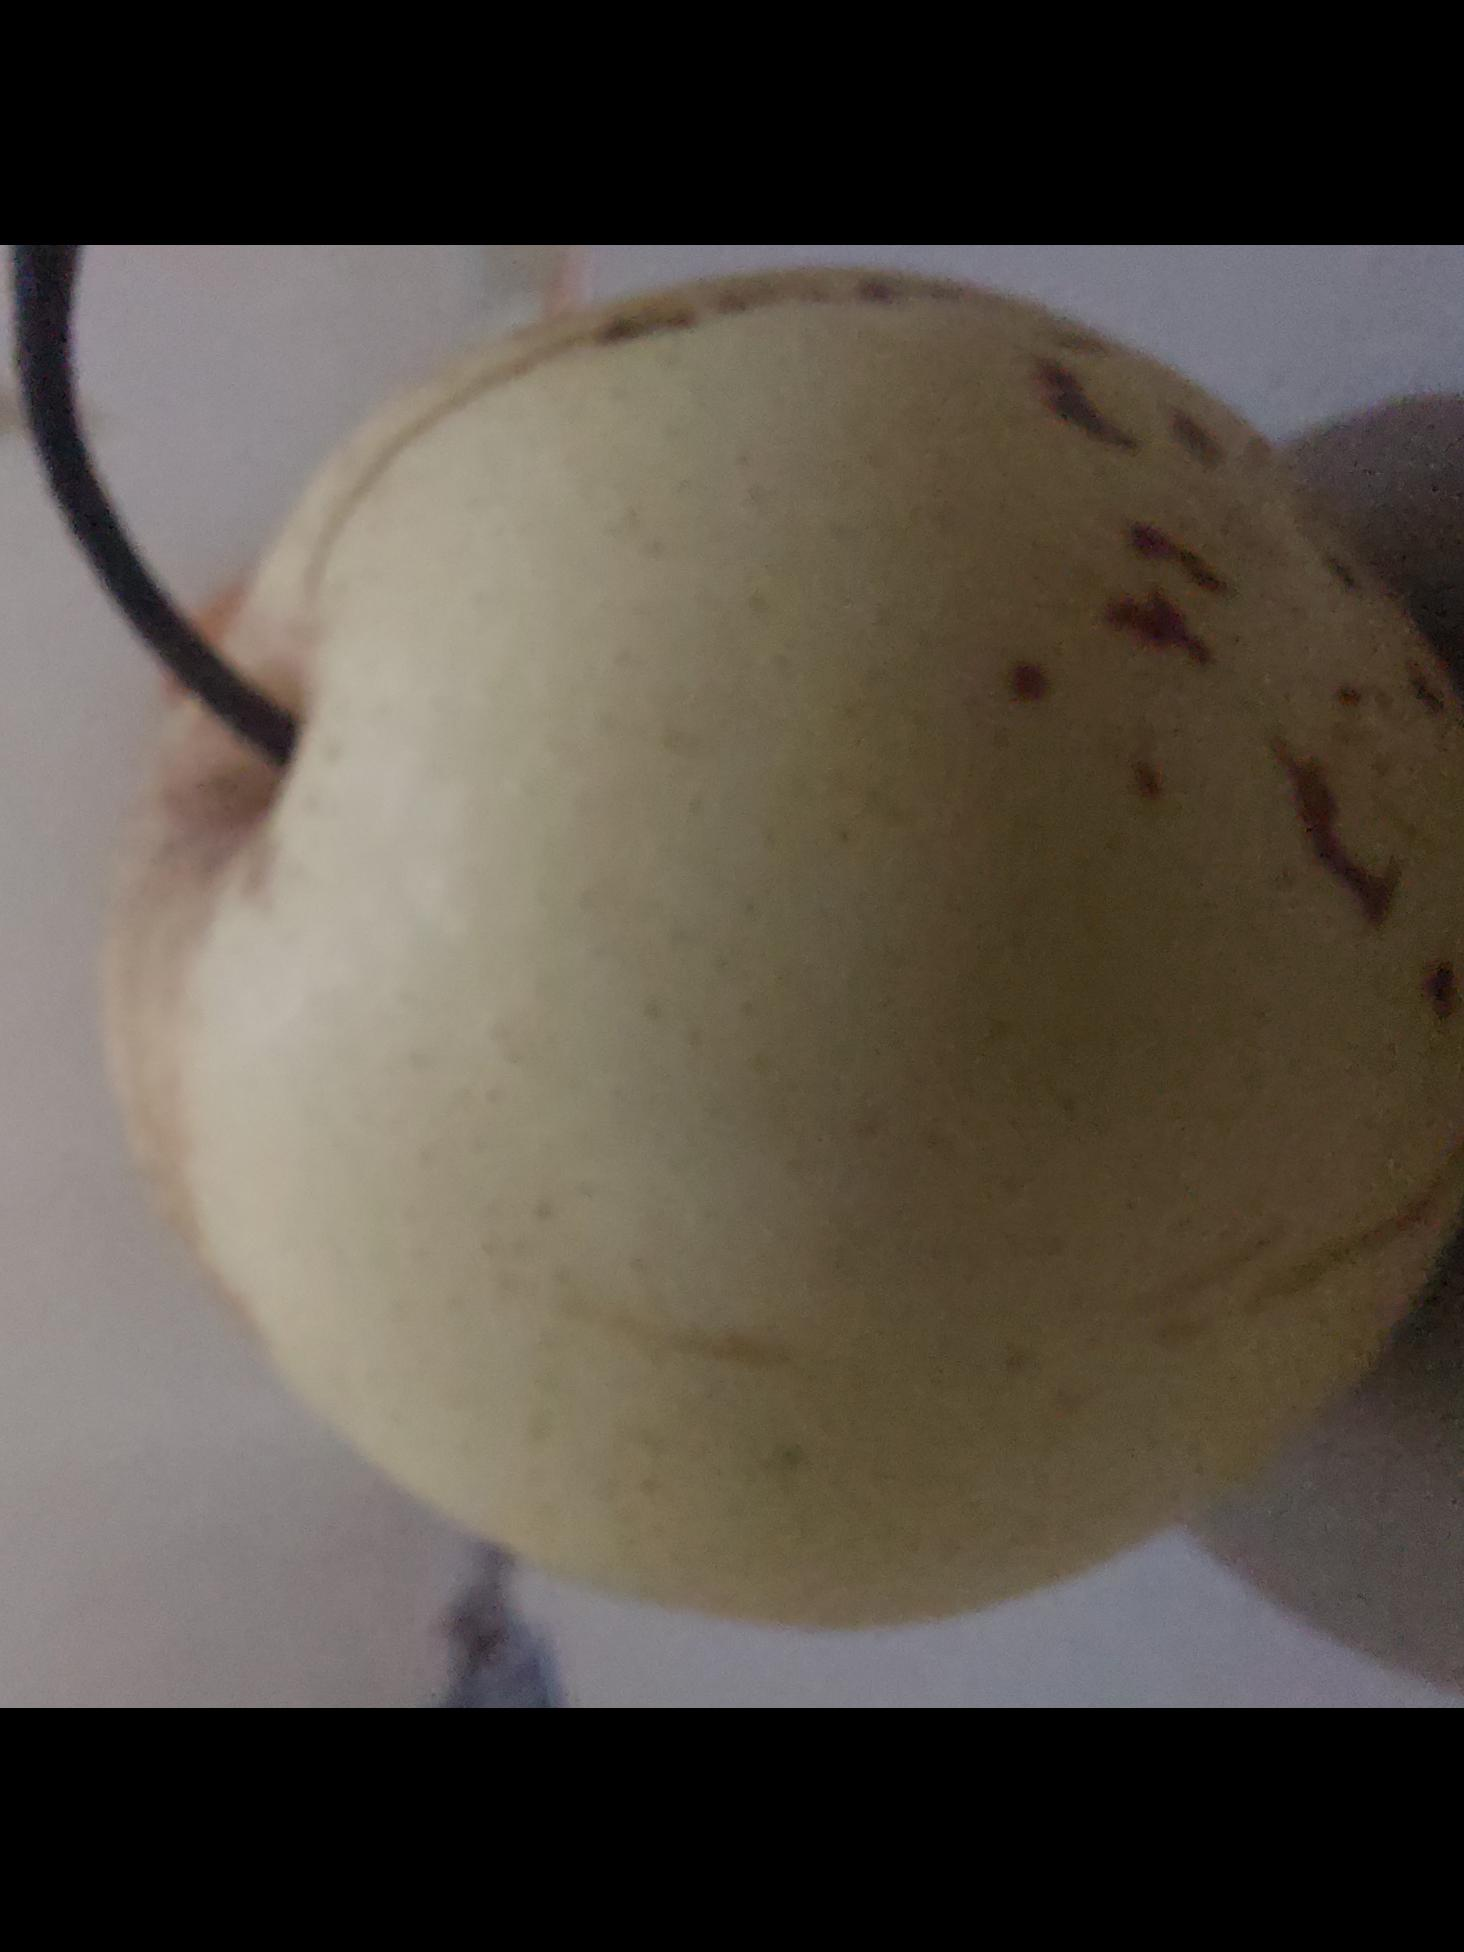Bad Pear: (163, 324, 1464, 1635)
